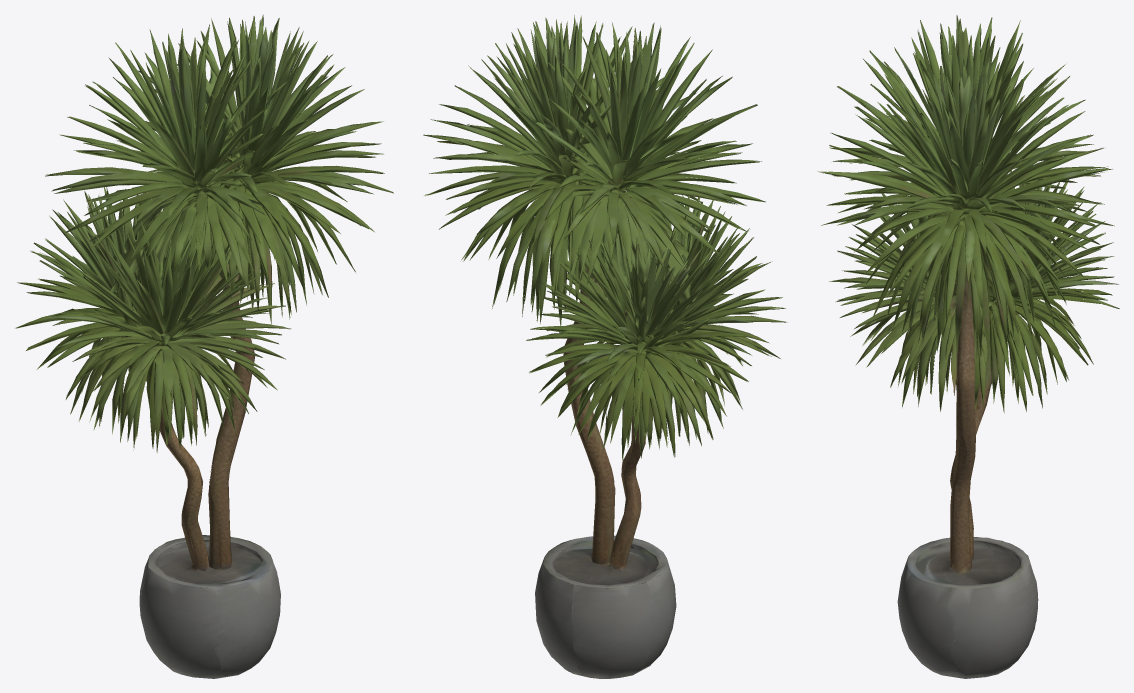
Rendered from dracaena.glb.
The picture shows the model from 3 angles, left to right: view 1: azimuth 30°, elevation 25°; view 2: azimuth 150°, elevation 25°; view 3: azimuth 270°, elevation 25°; orthographic projection.
Visible parts, largest first — view 1: material; view 2: material; view 3: material.
Part boxes in pixels (box(x1,y1,x2,y2)): material: box(15, 15, 393, 678); material: box(423, 15, 787, 678); material: box(817, 15, 1119, 678).
Size of the model in its own units: 0.6326 by 1.17 by 0.5213.
1 material, 1 textured.
